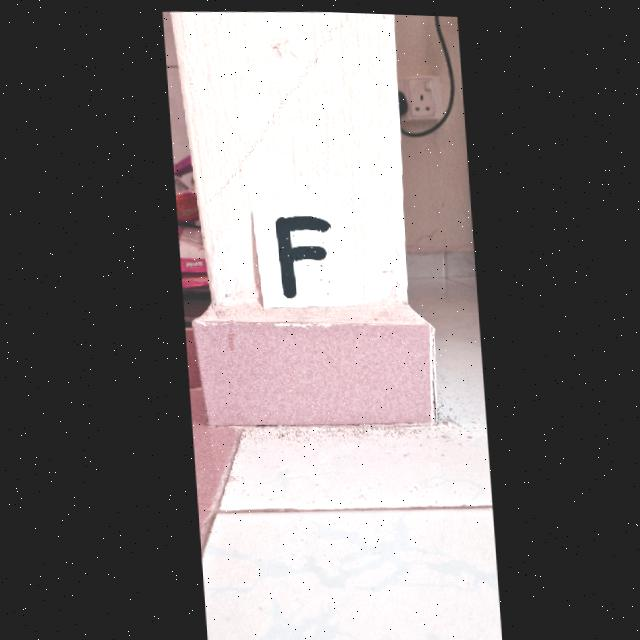F: (273, 214, 328, 297)
